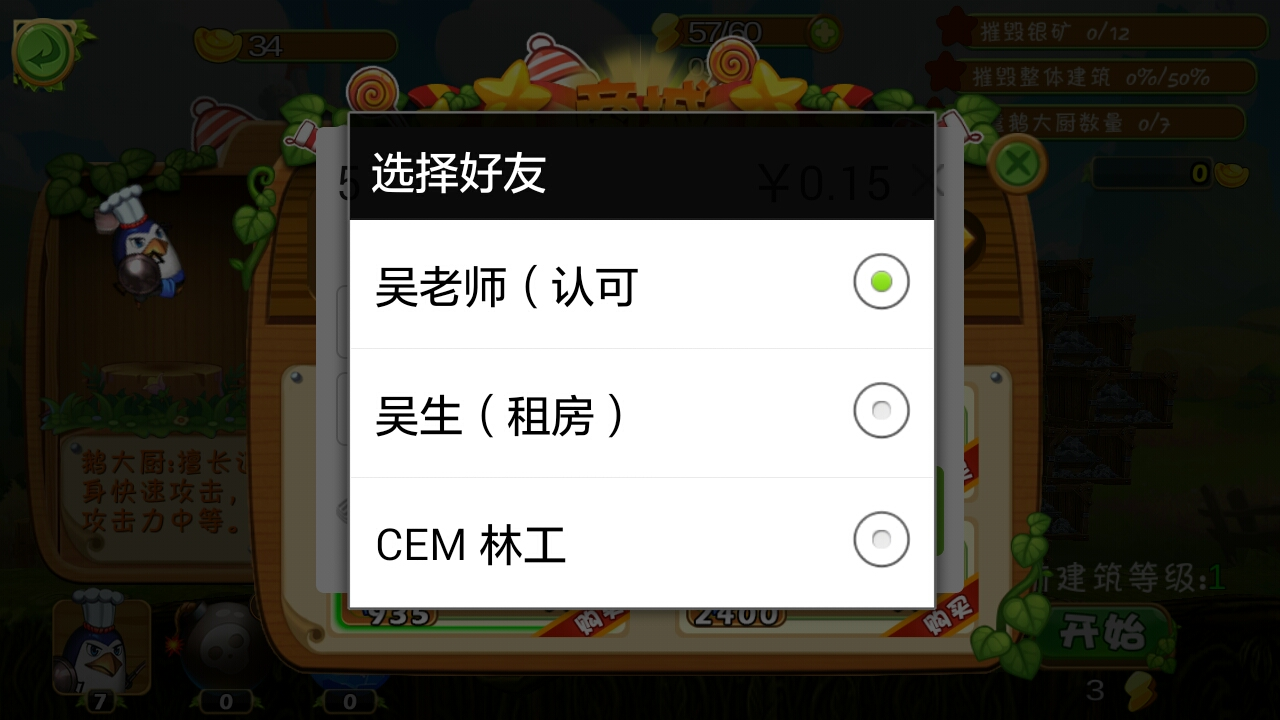checkboxs: (358, 227, 923, 591)
